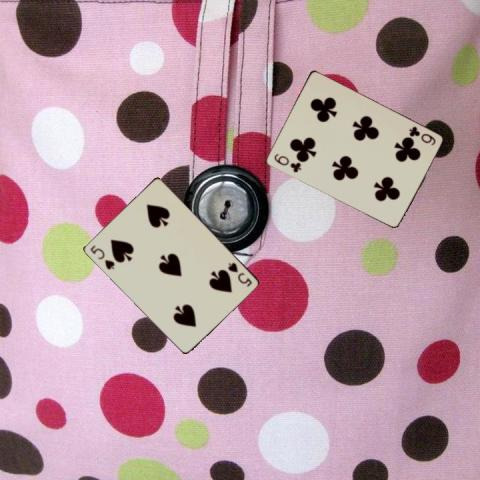5s: (87, 242, 115, 271), (224, 259, 252, 288)
6c: (406, 123, 437, 148), (271, 151, 302, 174)
